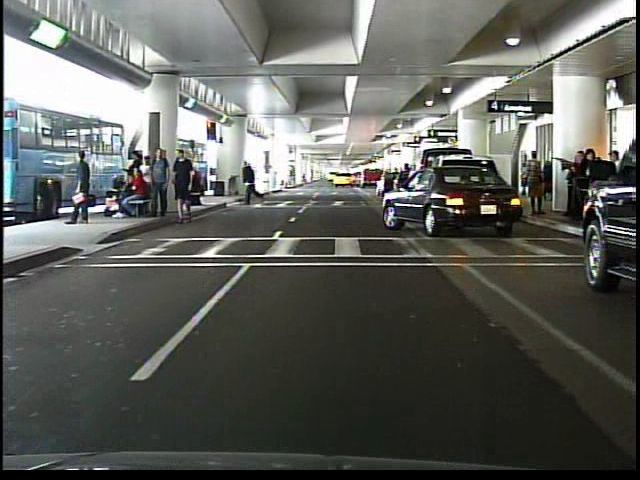person: (67, 145, 99, 233), (524, 149, 545, 215), (242, 160, 266, 205)
